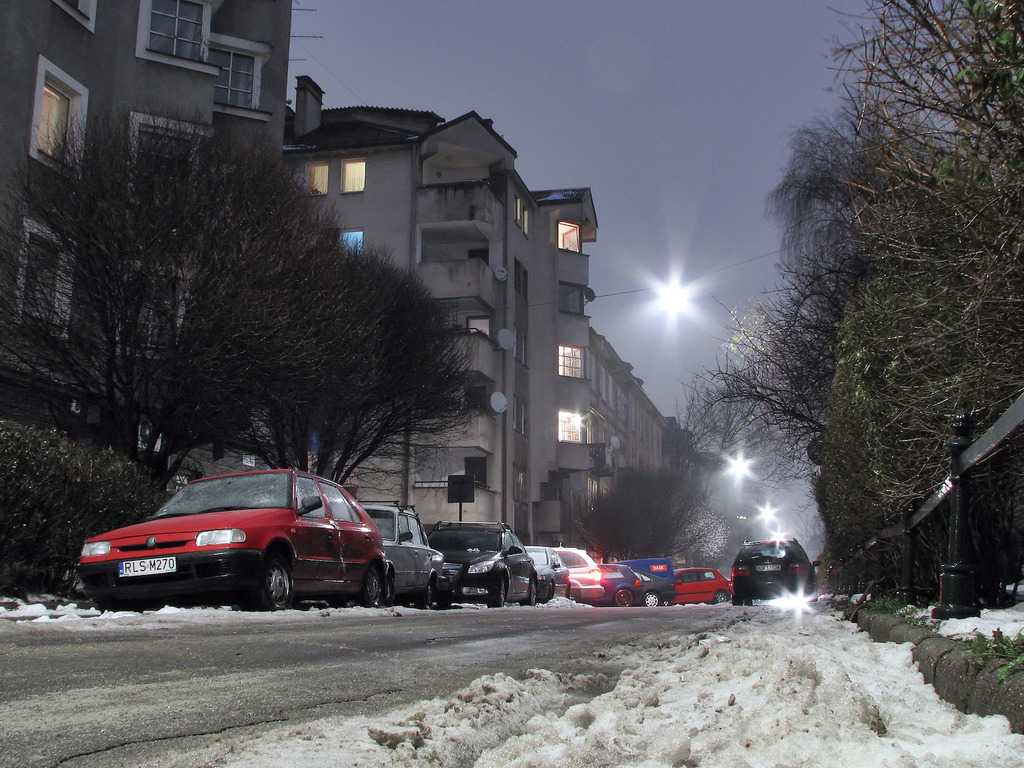Car: (76, 472, 421, 616), (359, 496, 731, 606), (728, 536, 823, 611)
